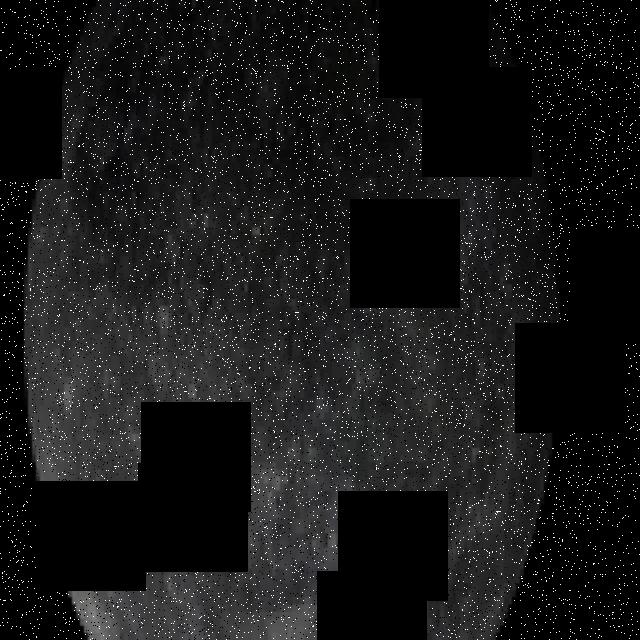Mercury: (20, 0, 560, 640)
